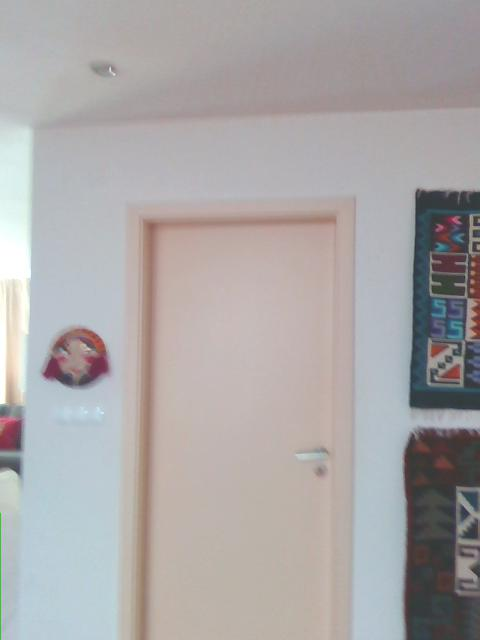closed_door: (123, 197, 353, 639)
